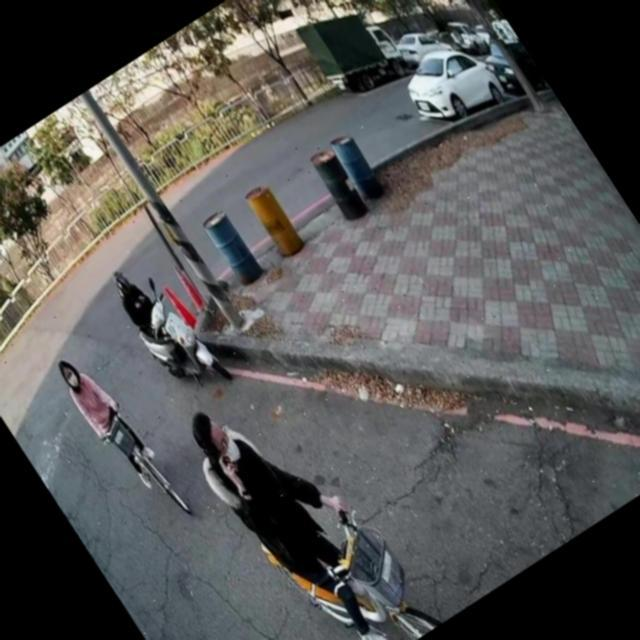person: (166, 360, 429, 640), (44, 339, 174, 504), (100, 254, 190, 368)
